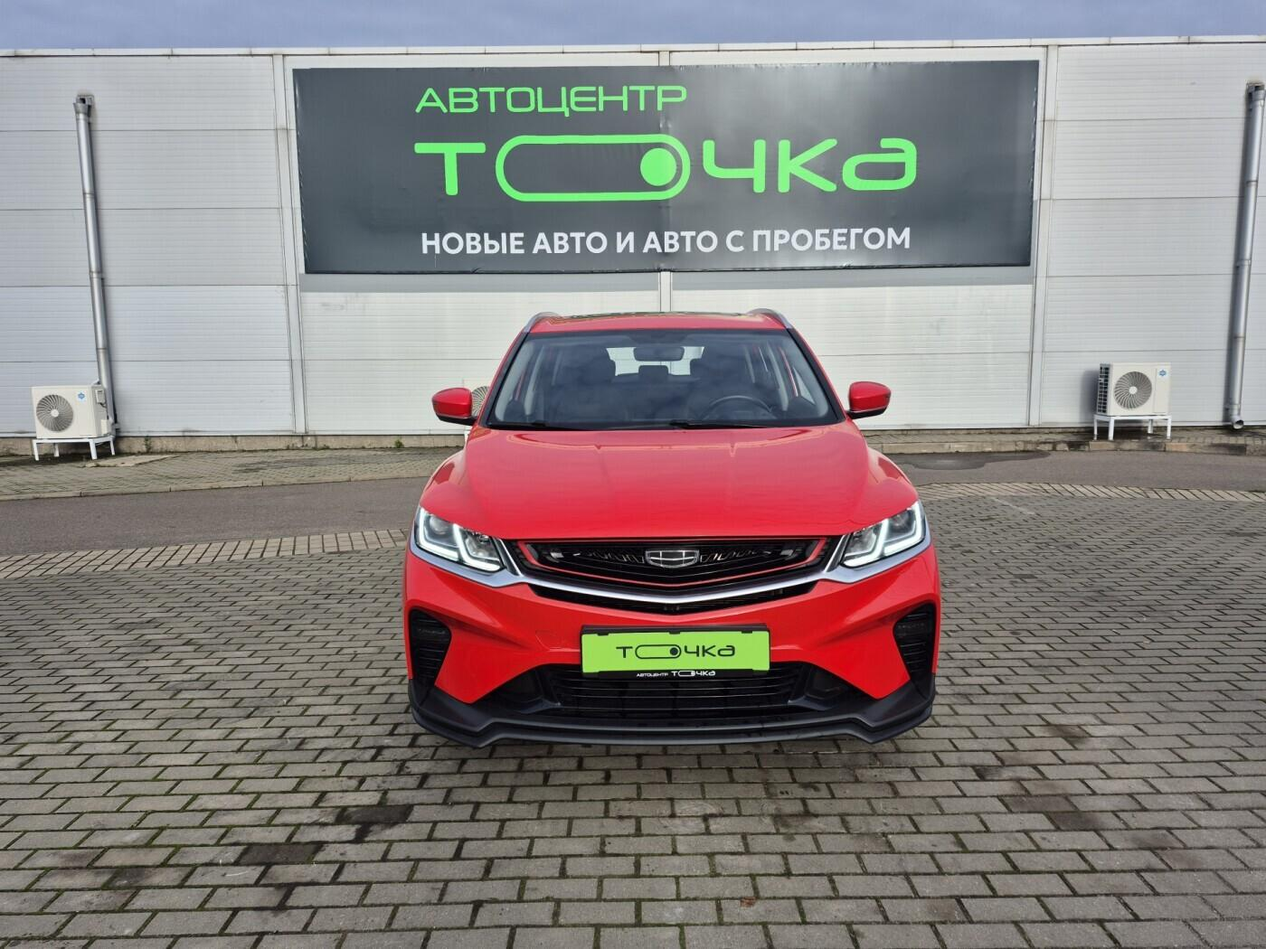Coolray_2019-2023: (399, 302, 946, 763)
